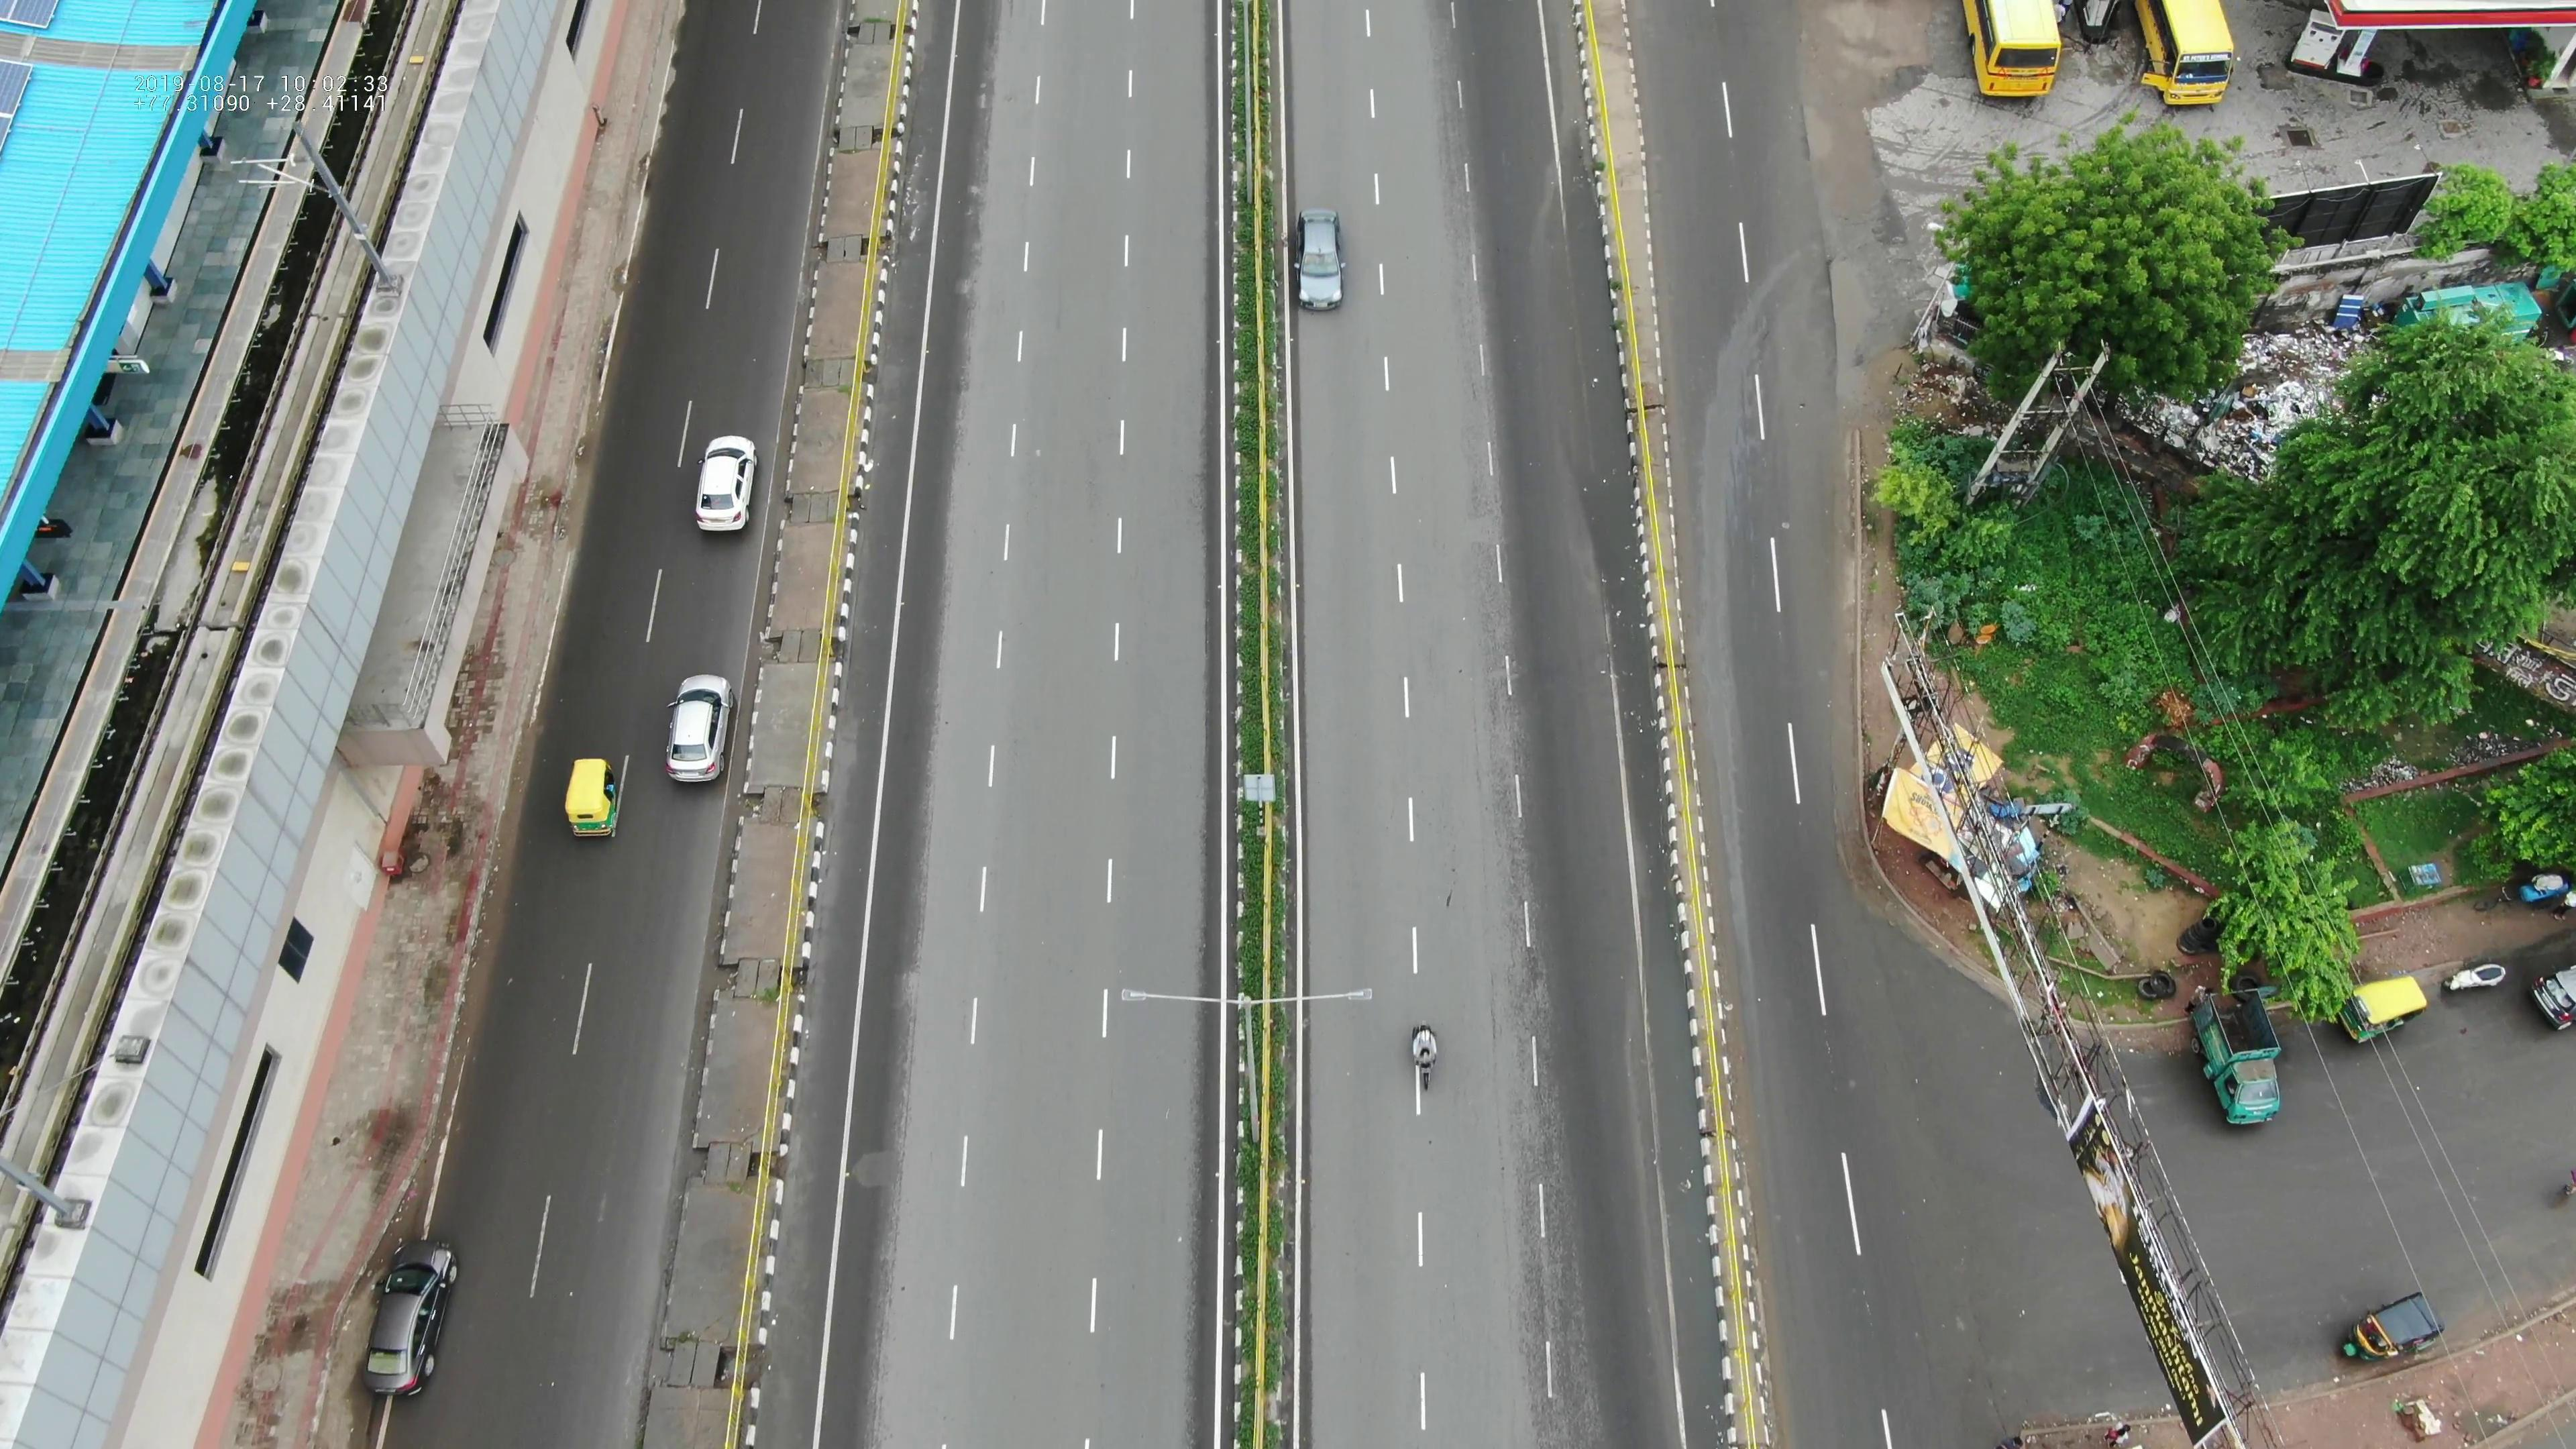Waterlogging: (1536, 150, 1660, 674)
